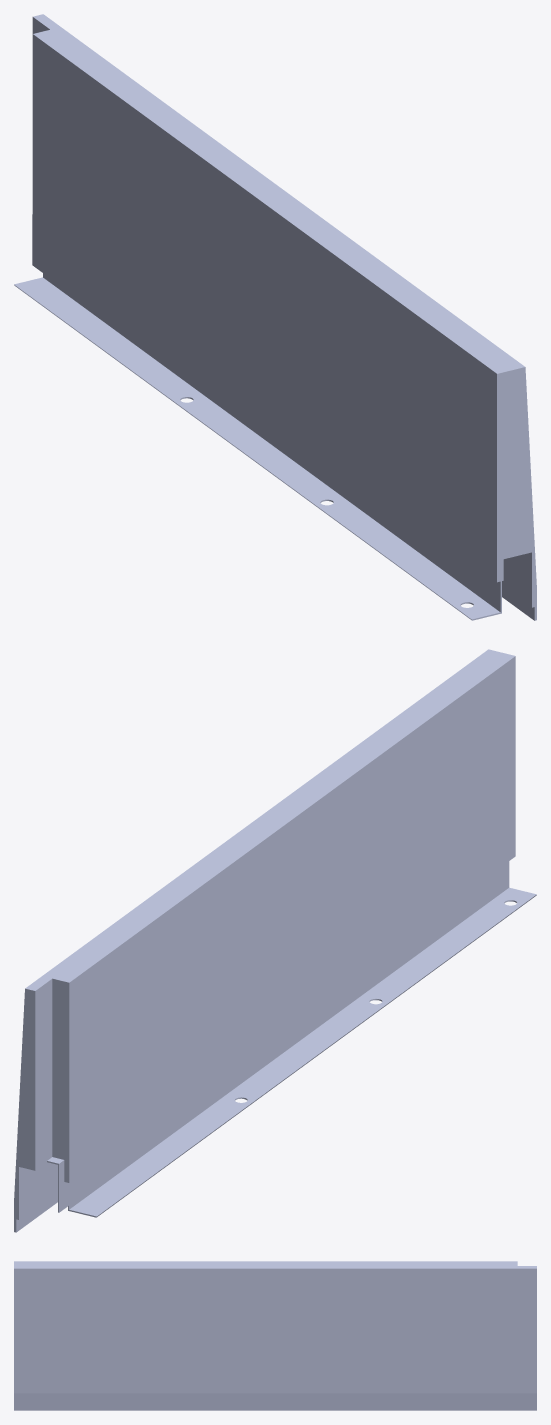
The model's file is mv-kava-K450-m.glb.
3 views of the same model, one above another, from view 1: azimuth 30°, elevation 25°; view 2: azimuth 150°, elevation 25°; view 3: azimuth 270°, elevation 25° (orthographic). The views are drawn at different scales.
Visible parts, largest first — view 1: 45298791; view 2: 45298791; view 3: 45298791.
Part boxes in pixels (<box>): 45298791: <box>14,14,536,620</box>; 45298791: <box>14,649,536,1232</box>; 45298791: <box>14,1261,536,1410</box>.
Bounding box in the file's own units: 0.0335 × 0.129 × 0.4402.
